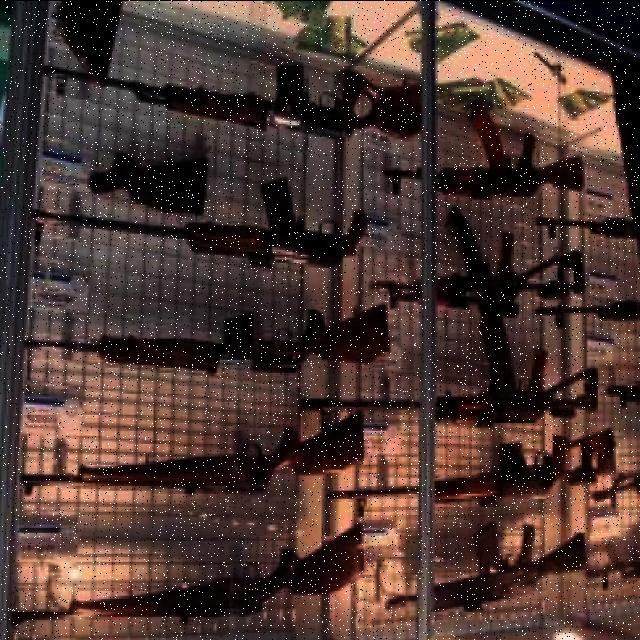Rifle: (11, 518, 365, 626), (297, 309, 598, 430), (29, 174, 368, 270), (43, 62, 423, 146), (18, 407, 365, 497), (325, 426, 618, 522), (24, 300, 392, 376), (369, 205, 584, 322), (383, 100, 584, 201), (384, 520, 586, 614), (533, 299, 640, 328), (536, 214, 638, 239), (583, 558, 640, 591), (592, 470, 640, 506), (606, 379, 640, 407)
